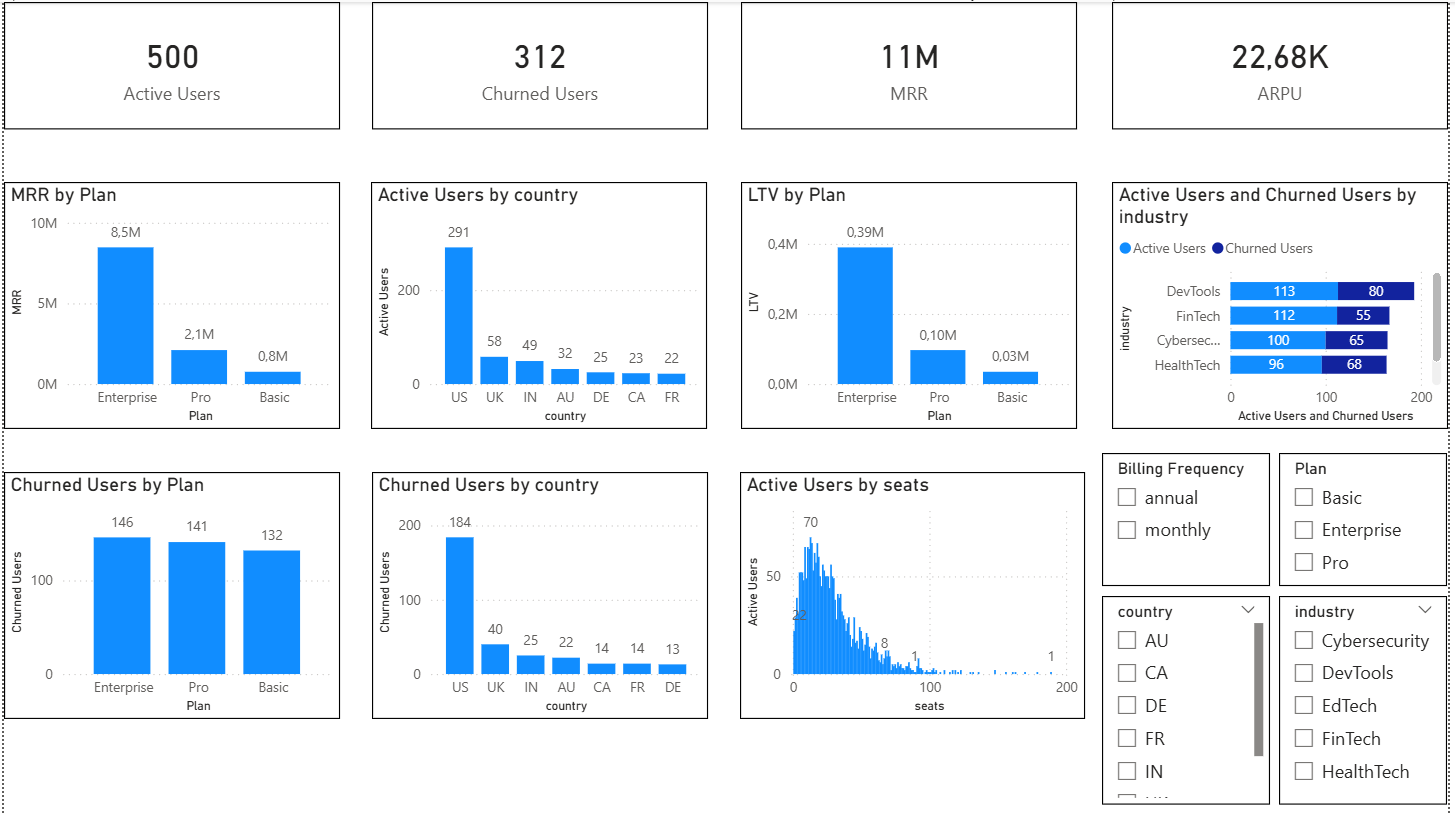

The page's visual inventory and layout, read from the dashboard file:
{"tool":"powerbi","page":{"name":"Customer Segmentation","canvas":[1280,720],"ordinal":5},"visuals":[{"type":"card","fields":{"Values":["ravenstack_subscriptions.Active Users"]},"box":[0,0,297.9,113.5],"z":0},{"type":"card","fields":{"Values":["ravenstack_subscriptions.Churned Users"]},"box":[326.3,0,297.9,113.5],"z":1000},{"type":"card","fields":{"Values":["ravenstack_subscriptions.MRR"]},"box":[653.5,0,297.9,113.5],"z":2000},{"type":"card","fields":{"Values":["ravenstack_subscriptions.ARPU"]},"box":[982.5,0,297.9,113.5],"z":3000},{"type":"columnChart","fields":{"Category":["ravenstack_subscriptions.plan_tier"],"Y":["ravenstack_subscriptions.MRR"]},"box":[0,159.2,297.9,219.1],"z":4000},{"type":"columnChart","fields":{"Category":["ravenstack_subscriptions.plan_tier"],"Y":["ravenstack_subscriptions.Churned Users"]},"box":[0,416.8,297.9,219.1],"z":5000},{"type":"columnChart","fields":{"Category":["ravenstack_accounts.country"],"Y":["ravenstack_subscriptions.Active Users"]},"box":[325.6,159.2,297.9,219.1],"z":6000},{"type":"columnChart","fields":{"Category":["ravenstack_accounts.country"],"Y":["ravenstack_subscriptions.Churned Users"]},"box":[326.5,416.8,297.9,219.1],"z":7000},{"type":"columnChart","fields":{"Category":["ravenstack_subscriptions.plan_tier"],"Y":["ravenstack_subscriptions.LTV"]},"box":[653.9,159.2,297.9,219.1],"z":8000},{"type":"clusteredColumnChart","fields":{"Category":["ravenstack_subscriptions.seats"],"Y":["ravenstack_subscriptions.Active Users"]},"box":[653,416.8,305.9,219.1],"z":9000},{"type":"barChart","fields":{"Category":["ravenstack_accounts.industry"],"Y":["ravenstack_subscriptions.Active Users","ravenstack_subscriptions.Churned Users"]},"box":[982.1,159.2,297.9,219.1],"z":10000},{"type":"slicer","fields":{"Values":["ravenstack_subscriptions.billing_frequency"]},"box":[973.2,399.8,149.4,118.1],"z":11000},{"type":"slicer","fields":{"Values":["ravenstack_subscriptions.plan_tier"]},"box":[1130.6,399.8,149.4,118.1],"z":12000},{"type":"slicer","fields":{"Values":["ravenstack_accounts.country"]},"box":[973.2,526.8,149.4,185.2],"z":13000},{"type":"slicer","fields":{"Values":["ravenstack_accounts.industry"]},"box":[1130.6,526.8,149.4,185.2],"z":14000}]}

Visuals, with their boxes in screenshot pixels (x1, y1, x2, y2), scaled from the page's 1280x720 canvas onto the 1455x814 screenshot:
card - ravenstack_subscriptions.Active Users: 0, 0, 339, 128
card - ravenstack_subscriptions.Churned Users: 371, 0, 710, 128
card - ravenstack_subscriptions.MRR: 743, 0, 1081, 128
card - ravenstack_subscriptions.ARPU: 1117, 0, 1454, 128
columnChart - ravenstack_subscriptions.plan_tier x ravenstack_subscriptions.MRR: 0, 180, 339, 428
columnChart - ravenstack_subscriptions.plan_tier x ravenstack_subscriptions.Churned Users: 0, 471, 339, 719
columnChart - ravenstack_accounts.country x ravenstack_subscriptions.Active Users: 370, 180, 709, 428
columnChart - ravenstack_accounts.country x ravenstack_subscriptions.Churned Users: 371, 471, 710, 719
columnChart - ravenstack_subscriptions.plan_tier x ravenstack_subscriptions.LTV: 743, 180, 1082, 428
clusteredColumnChart - ravenstack_subscriptions.seats x ravenstack_subscriptions.Active Users: 742, 471, 1090, 719
barChart - ravenstack_accounts.industry x ravenstack_subscriptions.Active Users: 1116, 180, 1454, 428
slicer - ravenstack_subscriptions.billing_frequency: 1106, 452, 1276, 586
slicer - ravenstack_subscriptions.plan_tier: 1285, 452, 1454, 586
slicer - ravenstack_accounts.country: 1106, 596, 1276, 805
slicer - ravenstack_accounts.industry: 1285, 596, 1454, 805
